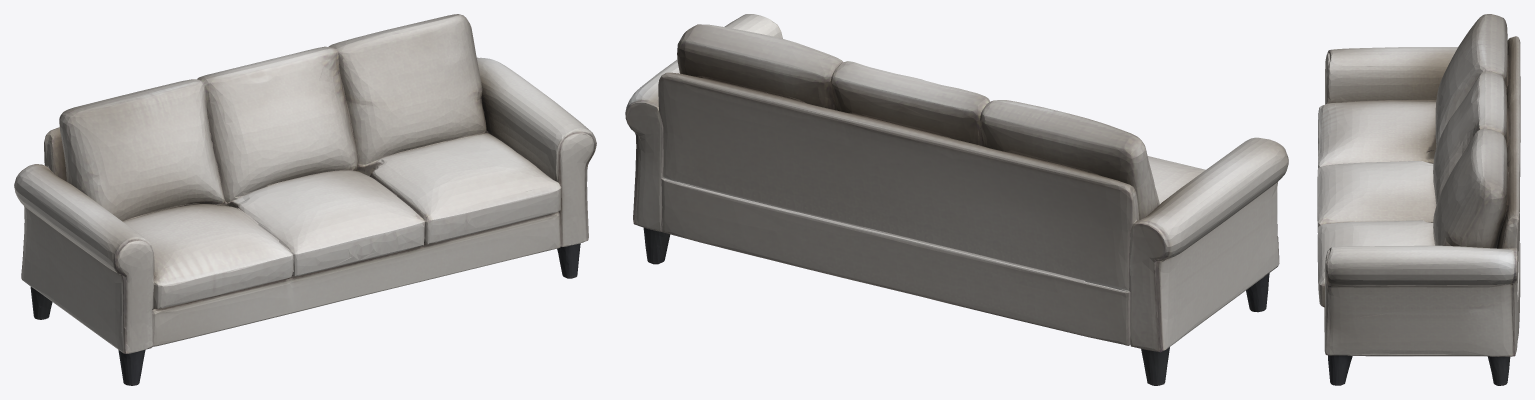
3 views of the same model, side by side, from view 1: azimuth 30°, elevation 25°; view 2: azimuth 150°, elevation 25°; view 3: azimuth 270°, elevation 25° (orthographic). The views are drawn at different scales.
Visible parts, largest first — view 1: world; view 2: world; view 3: world.
Boxes of the visible parts, x1,y1,x2,y2 form: world: (14, 14, 596, 385); world: (625, 14, 1288, 385); world: (1317, 14, 1520, 385).
Bounding box in the file's own units: 1 × 0.414 × 0.3986.
Materials: 1 (1 with a texture image).
